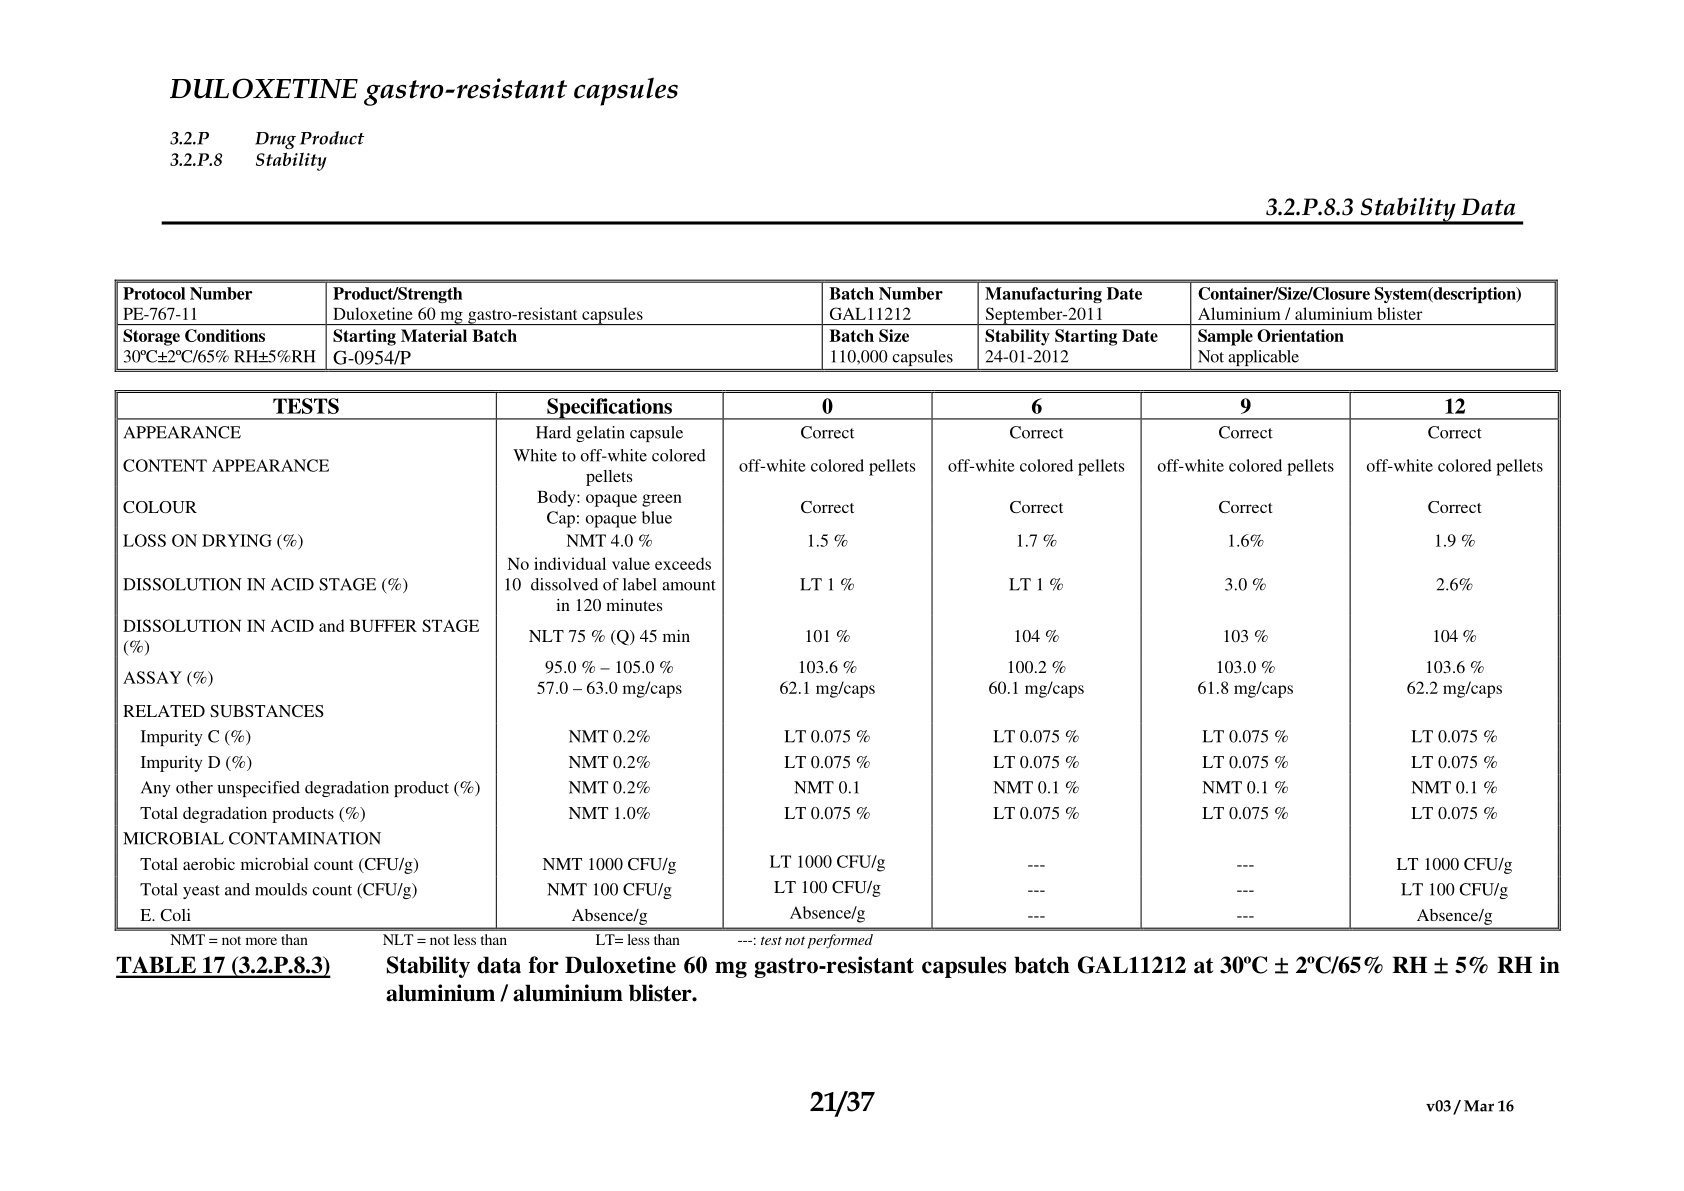full_lined: (113, 278, 1558, 373)
partial_lined: (113, 391, 1562, 931)
